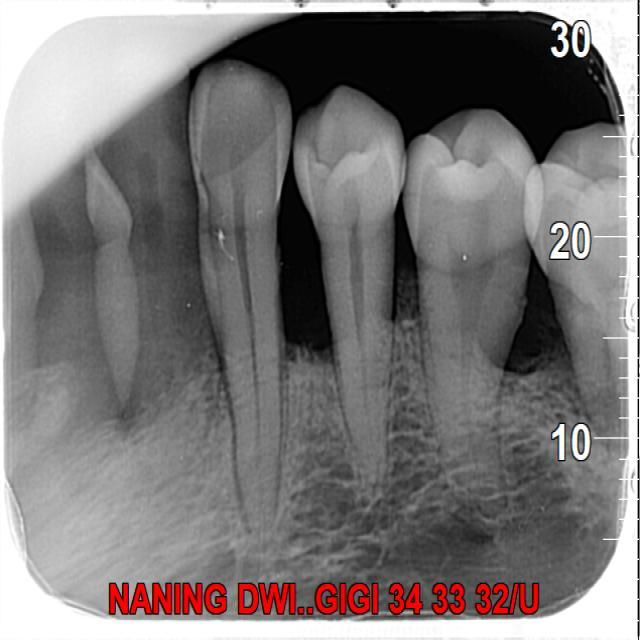individual-tooth-8tto: (404, 113, 551, 486), (188, 60, 290, 518), (295, 96, 410, 489)
